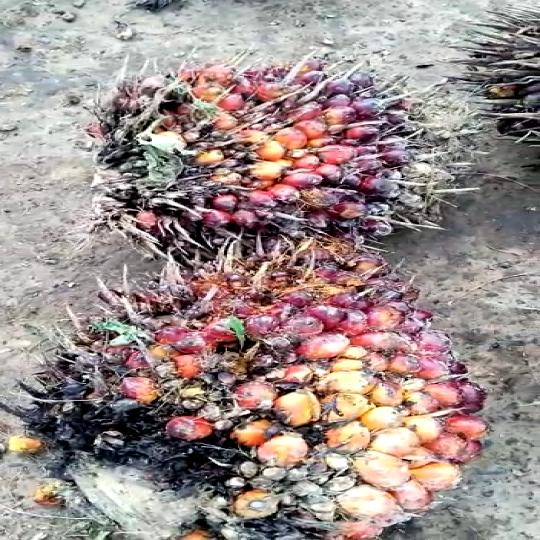masak: (0, 235, 485, 538), (59, 50, 513, 262)
